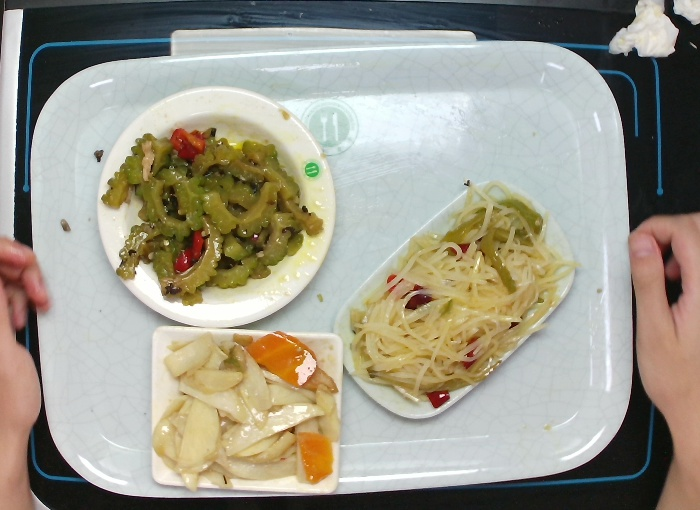WCQzf-Bai_Se_Si_Fang_Die: (144, 322, 350, 498)
WCQzf-Kuan_Bian_Yuan_Die: (91, 81, 339, 330)
WCQzf-Tuo_Yuan_Pan: (330, 176, 578, 424)
